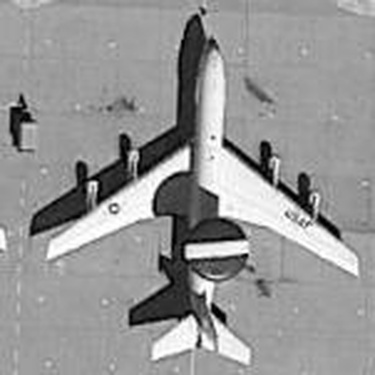airplane: (26, 25, 367, 370)
